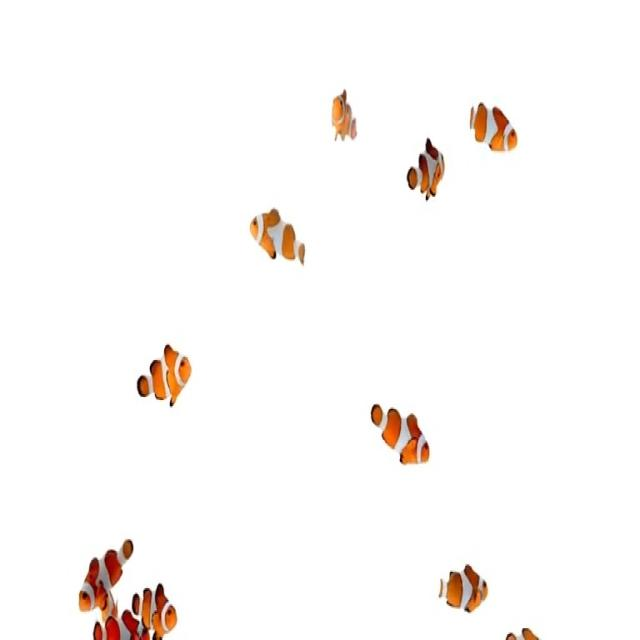fish: (368, 386, 436, 481), (134, 334, 192, 418), (247, 202, 314, 274), (79, 526, 133, 614), (465, 93, 523, 162), (399, 136, 452, 211), (129, 574, 183, 640), (90, 595, 152, 640), (436, 560, 487, 614), (329, 73, 362, 153)
